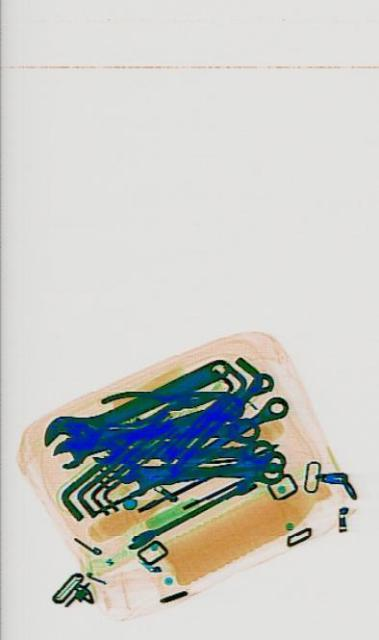Wrench: (38, 341, 229, 467), (51, 390, 242, 472), (122, 456, 281, 496)
